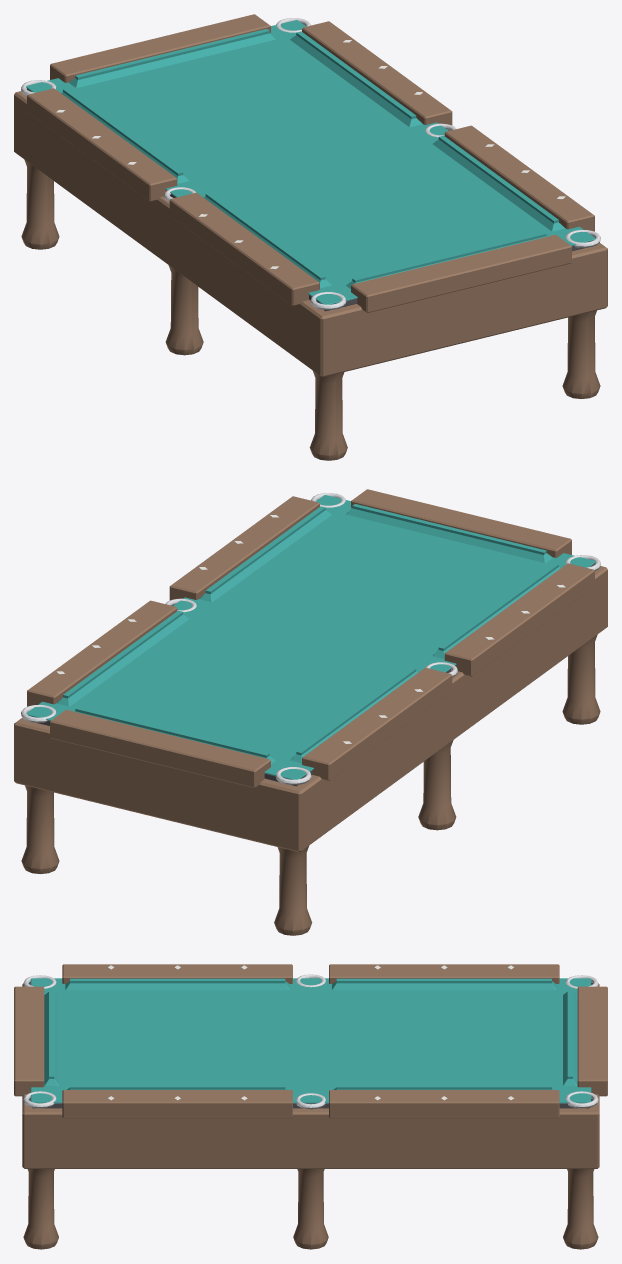
File: pool-table.glb
3 renders of one model, top to bottom at view 1: azimuth 30°, elevation 25°; view 2: azimuth 150°, elevation 25°; view 3: azimuth 270°, elevation 25°, orthographic. The views are drawn at different scales.
Visible parts, largest first — view 1: pool-table_0, pool-table_2, pool-table_3; view 2: pool-table_0, pool-table_2, pool-table_3; view 3: pool-table_0, pool-table_2, pool-table_3.
Boxes of the visible parts, bbox=[...] form: pool-table_0: bbox=[14, 14, 607, 460]; pool-table_2: bbox=[26, 20, 595, 304]; pool-table_3: bbox=[21, 18, 600, 310]; pool-table_0: bbox=[14, 489, 607, 935]; pool-table_2: bbox=[26, 495, 595, 779]; pool-table_3: bbox=[21, 493, 600, 785]; pool-table_0: bbox=[14, 964, 607, 1249]; pool-table_2: bbox=[30, 978, 591, 1103]; pool-table_3: bbox=[23, 974, 598, 1109].
Bounding box in the file's own units: 1.56 × 0.8014 × 2.83.
